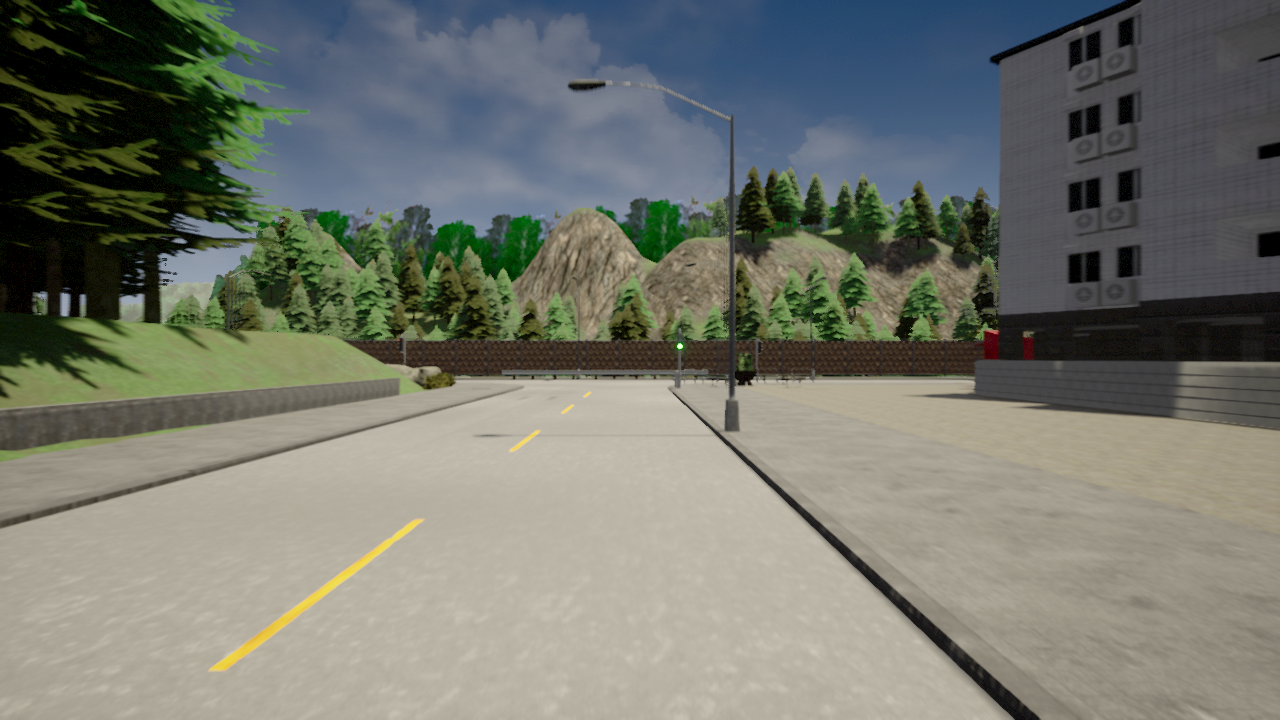green: (675, 333, 683, 351)
